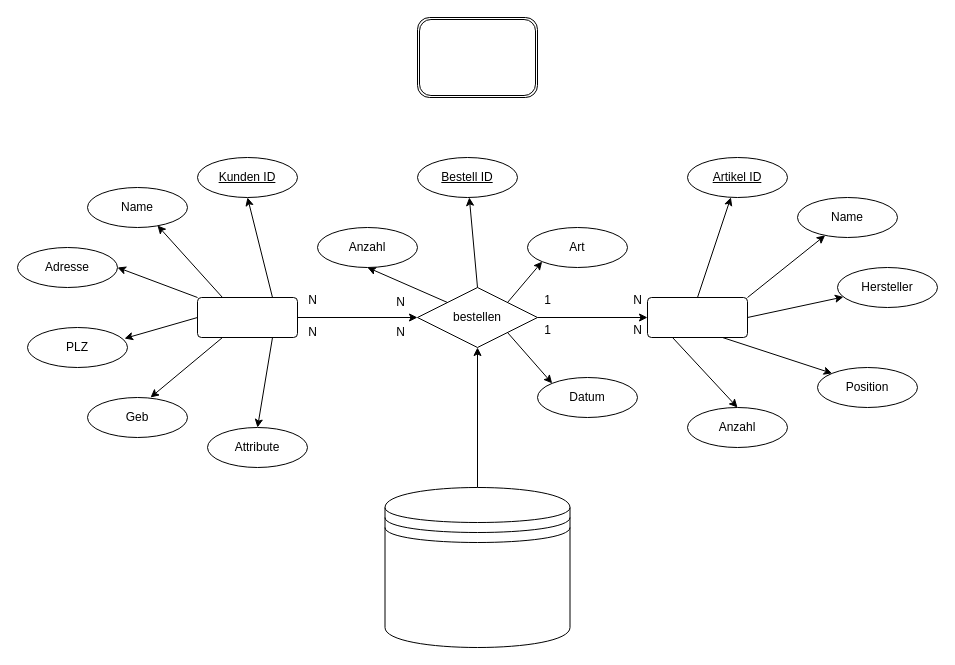
The diagram is 955 pixels wide and 665 high, and some of its shapes have lost their labels. Here are the shapes that lost their labels. From the top down, the box of each, then its label:
(416, 16, 538, 98): ERD
(196, 296, 298, 338): Kunden
(646, 296, 748, 338): Artikel
(384, 486, 570, 648): DB Versandhandel
